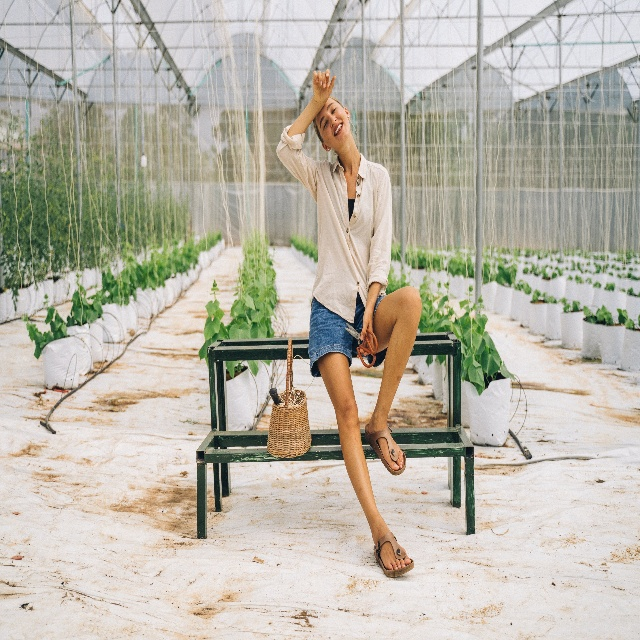Sin_guantes: (356, 303, 373, 360), (312, 68, 336, 105)
